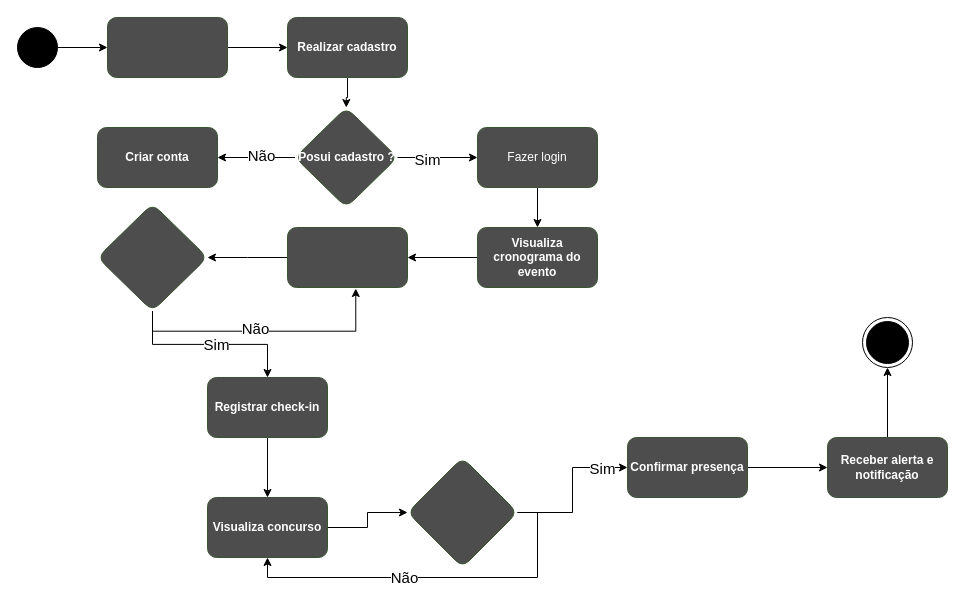
The diagram is 965 pixels wide and 603 high, and some of its shapes have lost their labels. Here are the shapes that lost their labels. From the top down, the centre of each, then its label:
At [167,47]: "Usuário acessa ao sistema".
At [152,257]: "Deseja fazer check-in ?".
At [347,257]: "Visualiza lojas e artistas".
At [462,512]: "Deseja se inscrever".
